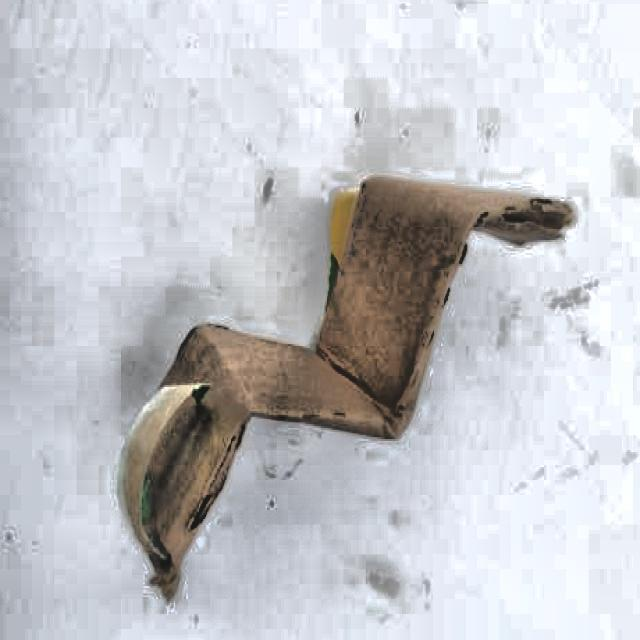cardboard: (118, 171, 576, 601)
